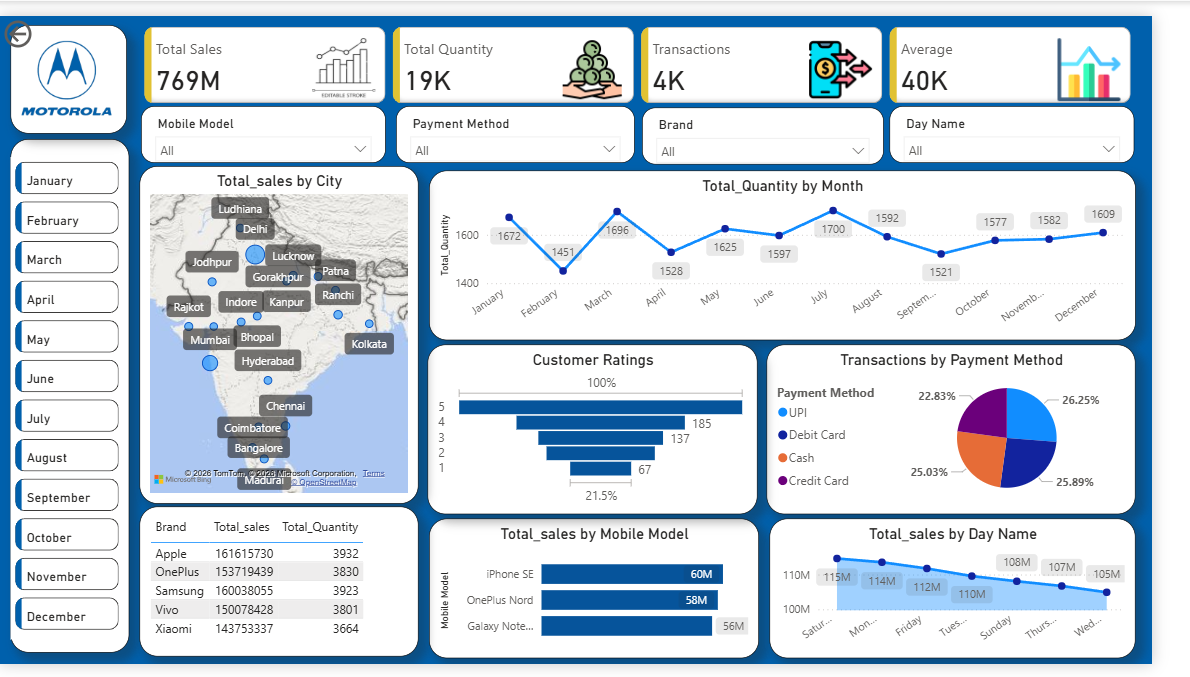

The dashboard page shown, as its layout file describes it:
{"tool":"powerbi","page":{"name":"Page 1","canvas":[1280,720],"ordinal":0},"visuals":[{"type":"shape","box":[11.3,137.1,132.3,571],"z":0},{"type":"shape","box":[11.3,9.7,129,121],"z":1000},{"type":"image","box":[17.7,6.5,111.3,124.2],"z":2000},{"type":"advancedSlicerVisual","fields":{"Values":["Sales_Data.Date.Variation.Date Hierarchy.Month"]},"box":[11.1,155.9,125.7,536],"z":3000},{"type":"cardVisual","fields":{"Data":["Sales_Data.Total_sales","Sales_Data.Total_Quantity","Sales_Data.Transactions","Sales_Data.Average"]},"box":[154.8,6.5,1106.5,95.2],"z":4000},{"type":"lineChart","fields":{"Category":["Sales_Data.Date.Variation.Date Hierarchy.Month","Sales_Data.Date.Variation.Date Hierarchy.Day"],"Y":["Sales_Data.Total_Quantity"]},"box":[476.7,171.7,785,188.3],"z":5000},{"type":"clusteredBarChart","fields":{"Category":["Sales_Data.Mobile Model"],"Y":["Sales_Data.Total_sales"]},"box":[476.7,558.3,366.7,155],"z":6000},{"type":"pieChart","fields":{"Category":["Sales_Data.Payment Method"],"Y":["Sales_Data.Transactions"]},"box":[851.7,365,410,188.3],"z":7000},{"type":"funnel","title":"Customer Ratings ","fields":{"Category":["Sales_Data.Customer Ratings"],"Y":["CountNonNull(Sales_Data.Customer Ratings)"]},"box":[475,365,366.7,188.3],"z":8000},{"type":"map","fields":{"Category":["Sales_Data.City"],"Size":["Sales_Data.Total_sales"]},"box":[155,166.7,310,375],"z":9000},{"type":"areaChart","fields":{"Category":["Sales_Data.Day Name"],"Y":["Sales_Data.Total_sales"]},"box":[855,558.3,406.7,155],"z":10000},{"type":"tableEx","fields":{"Values":["Sales_Data.Brand","Sales_Data.Total_sales","Sales_Data.Total_Quantity"]},"box":[155,545,310,166.7],"z":11000},{"type":"actionButton","box":[0,0,100,40],"z":12000},{"type":"slicer","fields":{"Values":["Sales_Data.Mobile Model"]},"box":[156.7,100,271.7,63.3],"z":13000},{"type":"slicer","fields":{"Values":["Sales_Data.Payment Method"]},"box":[440,100,265,63.3],"z":14000},{"type":"slicer","fields":{"Values":["Sales_Data.Brand"]},"box":[713.3,101.7,268.3,63.3],"z":15000},{"type":"slicer","fields":{"Values":["Sales_Data.Day Name"]},"box":[988.3,100,271.7,63.3],"z":16000}]}

Visuals, with their boxes in screenshot pixels (x1, y1, x2, y2), scaled from the page's 1280x720 canvas onto the 1190x677 screenshot:
shape: <bbox>11, 129, 134, 666</bbox>
shape: <bbox>11, 9, 130, 123</bbox>
image: <bbox>16, 6, 120, 123</bbox>
advancedSlicerVisual - Sales_Data.Date.Variation.Date Hierarchy.Month: <bbox>10, 147, 127, 651</bbox>
cardVisual - Sales_Data.Total_sales x Sales_Data.Total_Quantity: <bbox>144, 6, 1173, 96</bbox>
lineChart - Sales_Data.Date.Variation.Date Hierarchy.Month x Sales_Data.Date.Variation.Date Hierarchy.Day: <bbox>443, 161, 1173, 338</bbox>
clusteredBarChart - Sales_Data.Mobile Model x Sales_Data.Total_sales: <bbox>443, 525, 784, 671</bbox>
pieChart - Sales_Data.Payment Method x Sales_Data.Transactions: <bbox>792, 343, 1173, 520</bbox>
"Customer Ratings " funnel: <bbox>442, 343, 783, 520</bbox>
map - Sales_Data.City x Sales_Data.Total_sales: <bbox>144, 157, 432, 509</bbox>
areaChart - Sales_Data.Day Name x Sales_Data.Total_sales: <bbox>795, 525, 1173, 671</bbox>
tableEx - Sales_Data.Brand x Sales_Data.Total_sales: <bbox>144, 512, 432, 669</bbox>
actionButton: <bbox>0, 0, 93, 38</bbox>
slicer - Sales_Data.Mobile Model: <bbox>146, 94, 398, 154</bbox>
slicer - Sales_Data.Payment Method: <bbox>409, 94, 655, 154</bbox>
slicer - Sales_Data.Brand: <bbox>663, 96, 913, 155</bbox>
slicer - Sales_Data.Day Name: <bbox>919, 94, 1171, 154</bbox>
